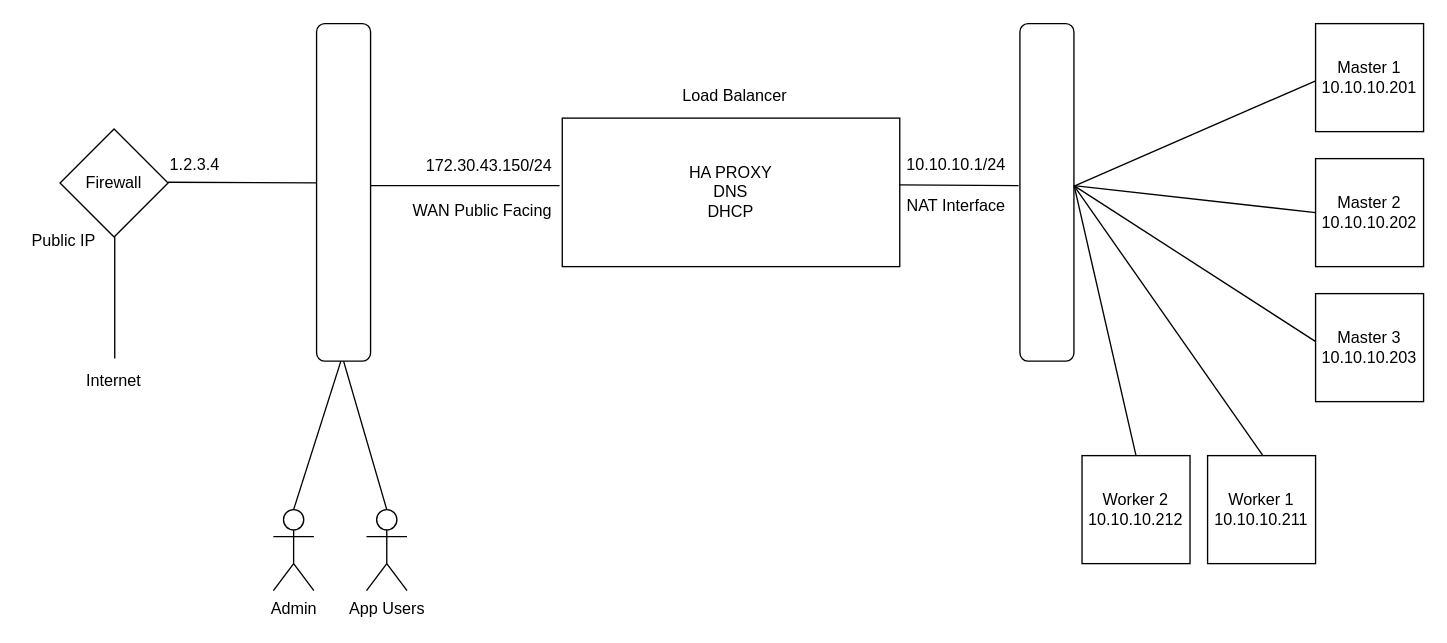
The diagram is 1447 pixels wide and 643 high, and some of its shapes have lost their labels. Here are the shapes that lost their labels. From the top down, the centre of each, then its label:
(x=343, y=191): WAN Net
(x=1046, y=191): OpenShit Net
